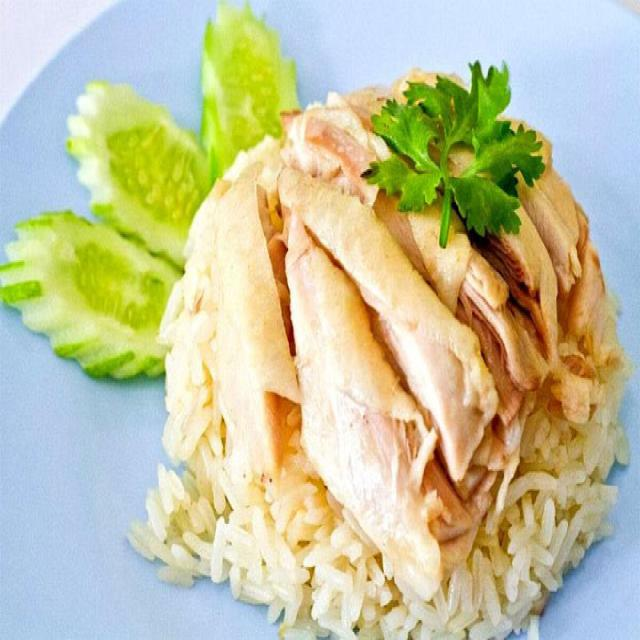Hainanese chicken rice: (215, 174, 628, 638)
carb: (164, 367, 618, 623)
meat: (221, 151, 571, 470)
vegetable: (76, 91, 151, 368)
